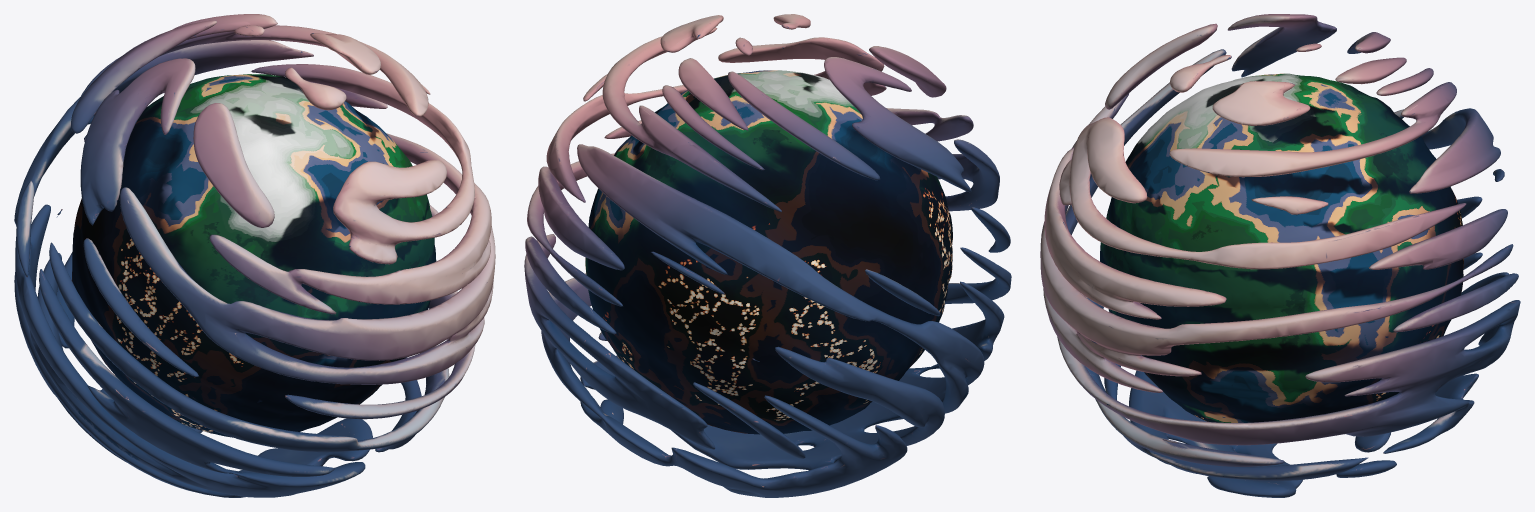
Rendered from planet.glb.
The picture shows the model from 3 angles, left to right: view 1: azimuth 30°, elevation 25°; view 2: azimuth 150°, elevation 25°; view 3: azimuth 270°, elevation 25°; orthographic projection.
Parts seen in each view (by area): view 1: Clouds, Planet; view 2: Clouds, Planet; view 3: Clouds, Planet.
Part boxes in pixels (<box>): Clouds: <box>14,14,495,497</box>; Planet: <box>71,74,436,437</box>; Clouds: <box>524,14,1011,497</box>; Planet: <box>585,70,952,434</box>; Clouds: <box>1040,14,1520,497</box>; Planet: <box>1100,73,1463,422</box>.
Bounding box in the file's own units: 1.75 × 1.73 × 1.74.
Materials: 2 (2 with a texture image).
